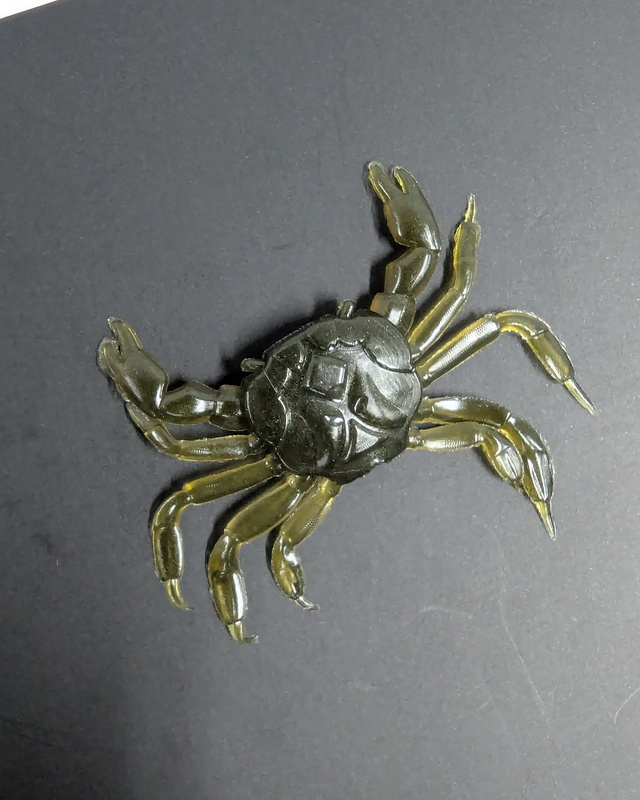crab2: (93, 161, 595, 645)
